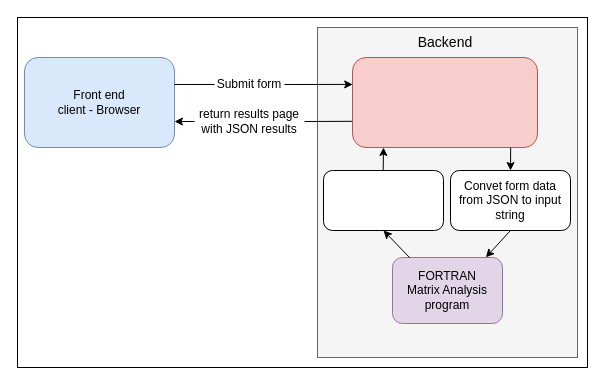
The diagram is 605 pixels wide and 385 high, and some of its shapes have lost their labels. The shapes that lost their labels are listed below. From the top down, each one's centre as x and y in pixels, then its label:
At pixel 445 102: "Node JS Web Server".
At pixel 383 200: "Output results data as JSON".
